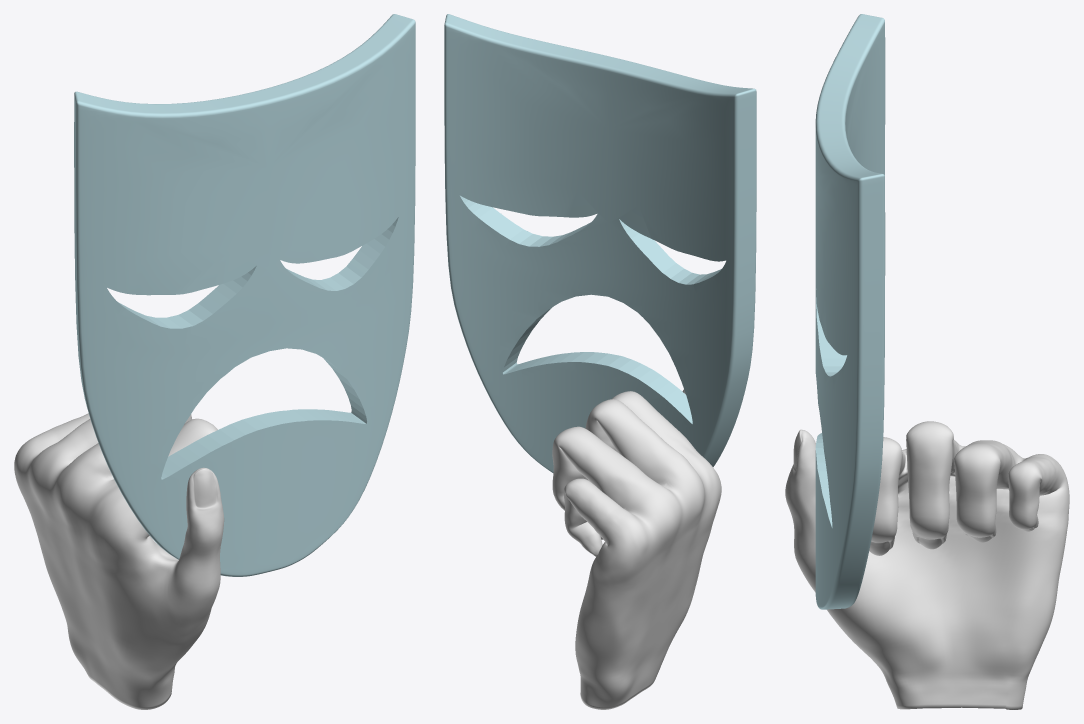
File: frown_mask.glb
3 renders of one model, left to right at view 1: azimuth 30°, elevation 25°; view 2: azimuth 150°, elevation 25°; view 3: azimuth 270°, elevation 25°, orthographic. The views are drawn at different scales.
Parts seen in each view (by area): view 1: Frown, LeftHand; view 2: Frown, LeftHand; view 3: LeftHand, Frown.
Part boxes in pixels (x1,y1,x2,y2): Frown: (74,14,415,576); LeftHand: (14,413,224,709); Frown: (444,14,756,472); LeftHand: (552,389,721,709); LeftHand: (785,421,1069,709); Frown: (815,14,885,609).
Size of the model in its own units: 2.63 by 4.79 by 1.9.
